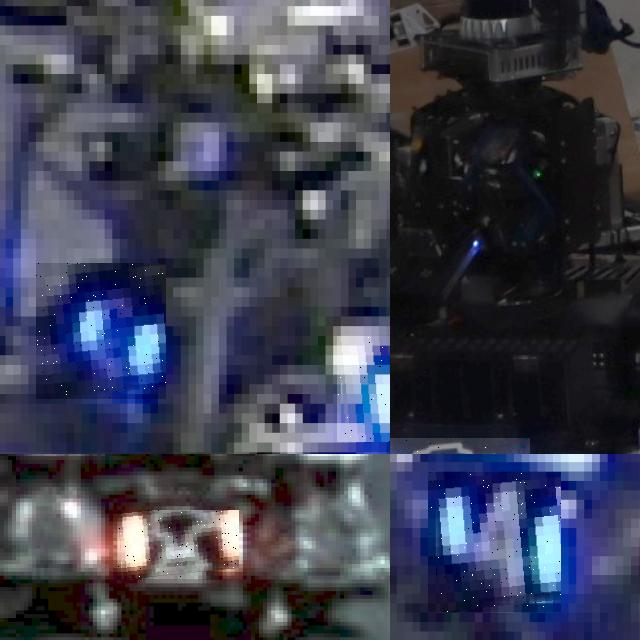B2: (36, 263, 166, 399), (337, 335, 390, 442)
B4: (428, 472, 561, 612)
Rs: (117, 510, 239, 580)
